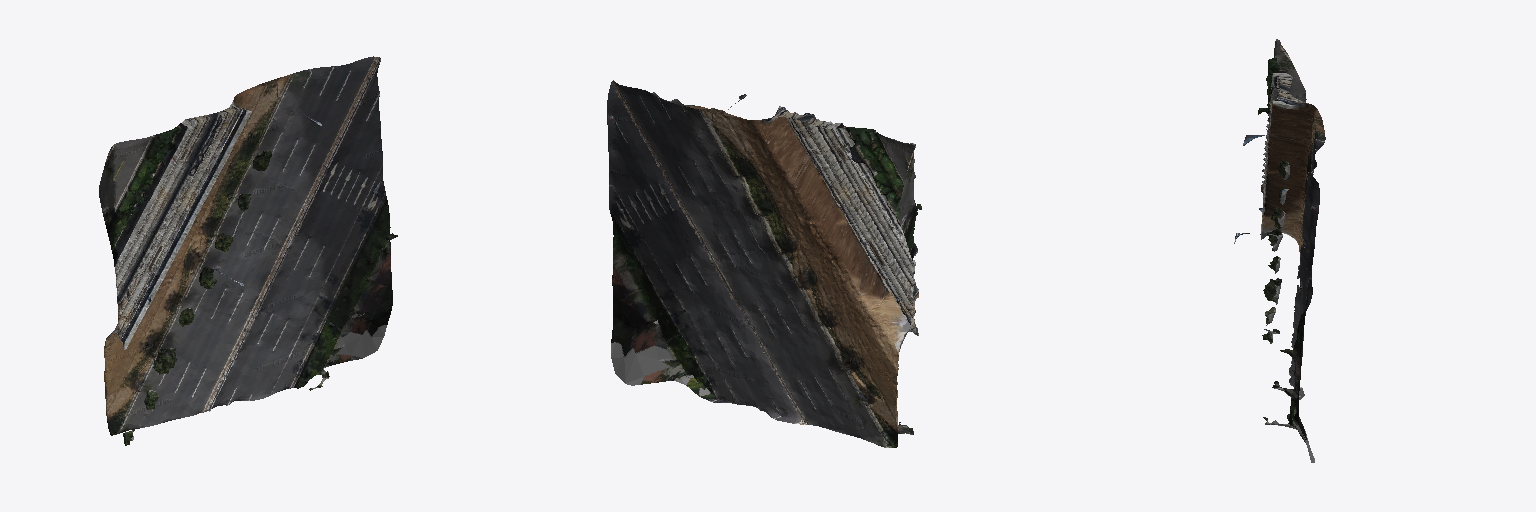
3 renders of one model, left to right at view 1: azimuth 30°, elevation 25°; view 2: azimuth 150°, elevation 25°; view 3: azimuth 270°, elevation 25°, orthographic.
Size of the model in its own units: 61.25 by 61.61 by 16.6.
Materials: 2 (1 with a texture image).